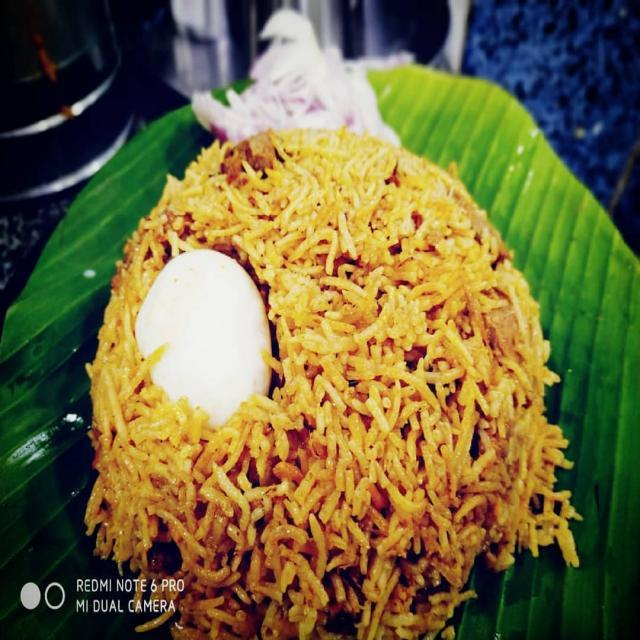biryani: (138, 135, 536, 617)
